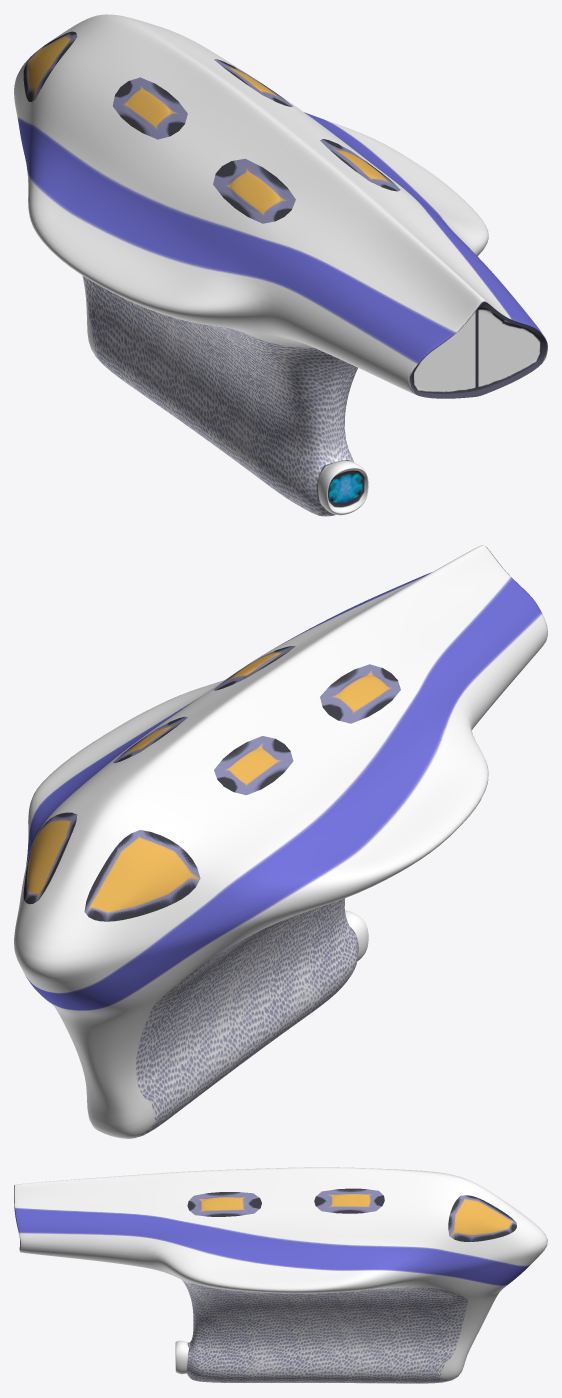
The model's file is ship.glb.
The picture shows the model from 3 angles, top to bottom: view 1: azimuth 30°, elevation 25°; view 2: azimuth 150°, elevation 25°; view 3: azimuth 270°, elevation 25°; orthographic projection. The views are drawn at different scales.
Visible parts, largest first — view 1: Ship; view 2: Ship; view 3: Ship.
Part boxes in pixels (<box>): Ship: <box>14,14,547,516</box>; Ship: <box>14,545,547,1138</box>; Ship: <box>14,1167,547,1383</box>.
Bounding box in the file's own units: 9.03 × 8.48 × 19.33.
Materials: 1 (1 with a texture image).
